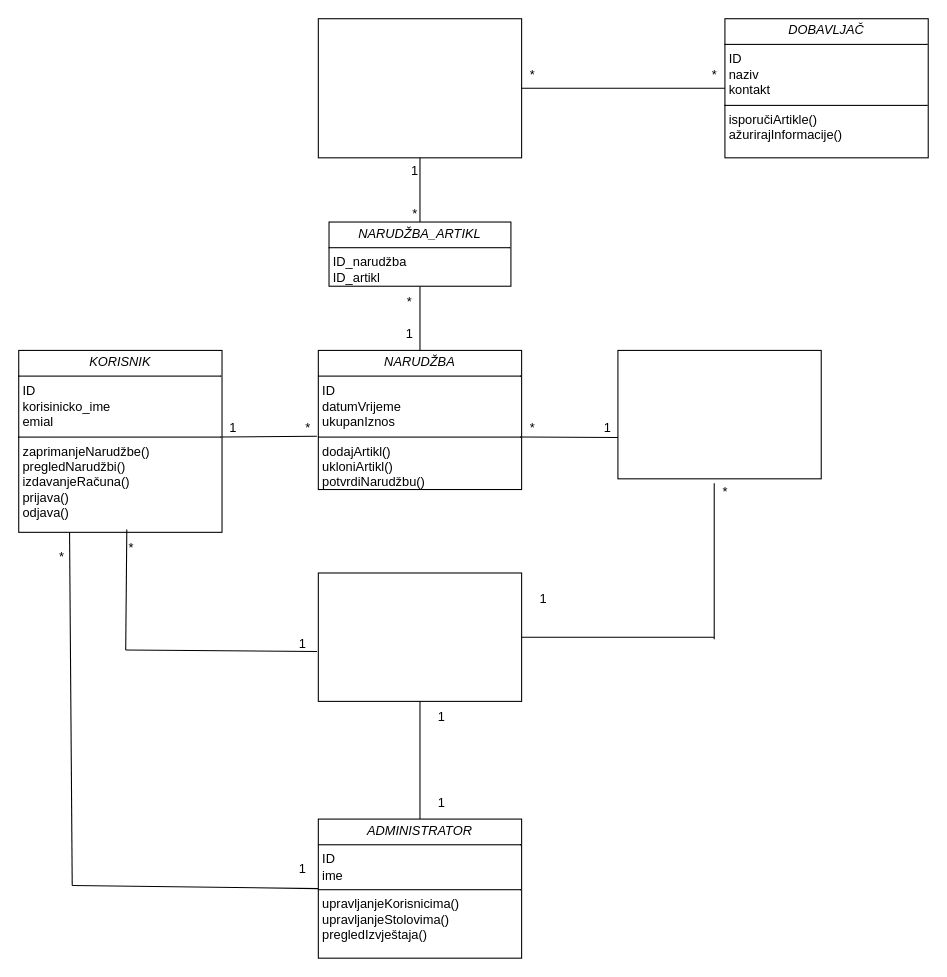
The diagram is 947 pixels wide and 977 high, and some of its shapes have lost their labels. The shapes that lost their labels are listed below. From the top down, each one's box as (x1, y1, x2, y2) in pixels, then its label:
(317, 18, 522, 158): ARTIKL ID naziv cijena provjeriZalihe() ažurirajCijenu()
(617, 349, 821, 479): STOL ID broj status rezervirajStol() oslobodiStol()
(317, 572, 522, 701): CAFFE BAR ID naziv lokacija dodajStol() upravljanjeStolovima()
